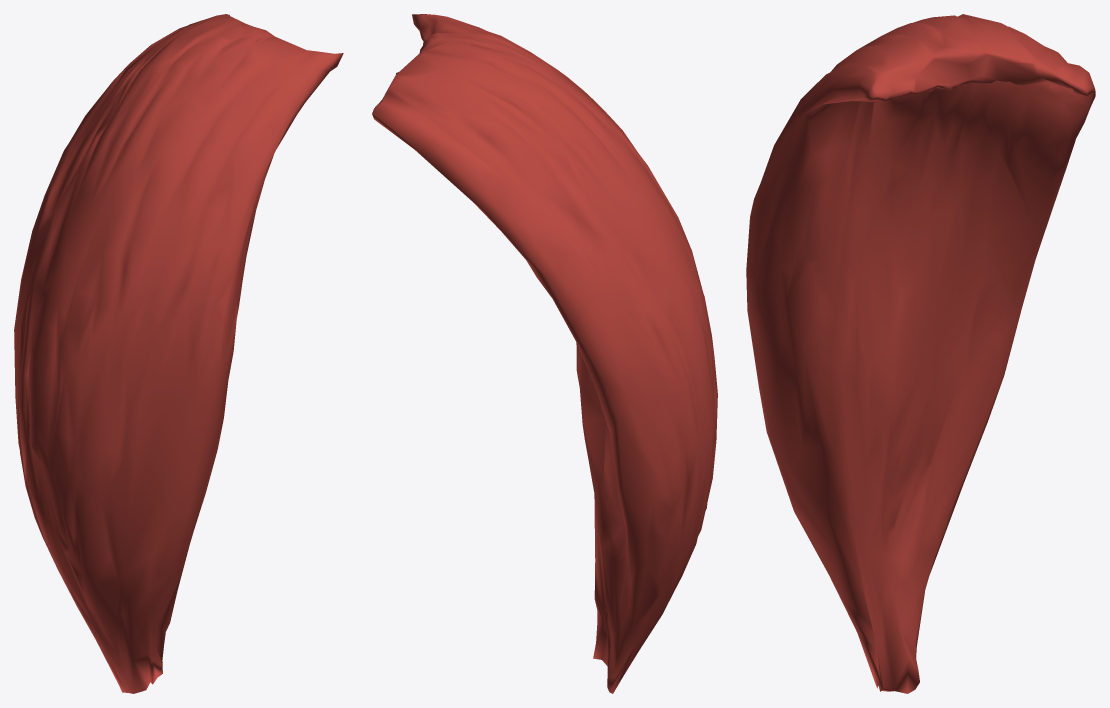
Rendered from musculos-acromial-part-of-deltoid-muscle-r.glb.
3 renders of one model, left to right at view 1: azimuth 30°, elevation 25°; view 2: azimuth 150°, elevation 25°; view 3: azimuth 270°, elevation 25°, orthographic. The views are drawn at different scales.
Visible parts, largest first — view 1: Acromial part of deltoid muscle.r; view 2: Acromial part of deltoid muscle.r; view 3: Acromial part of deltoid muscle.r.
Part boxes in pixels (left/top/right/bottom): Acromial part of deltoid muscle.r: left=14, top=14, right=343, bottom=693; Acromial part of deltoid muscle.r: left=372, top=14, right=717, bottom=693; Acromial part of deltoid muscle.r: left=746, top=14, right=1095, bottom=693.
Size of the model in its own units: 0.0755 by 0.1476 by 0.0633.
